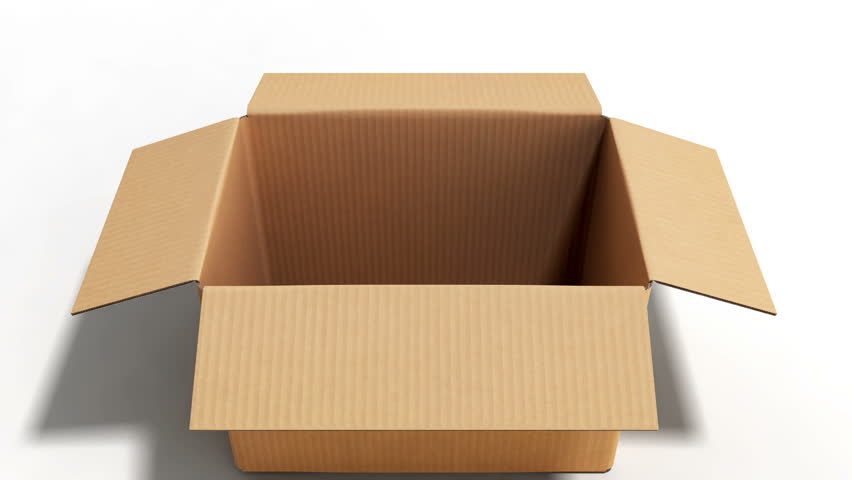box: (80, 73, 776, 474)
